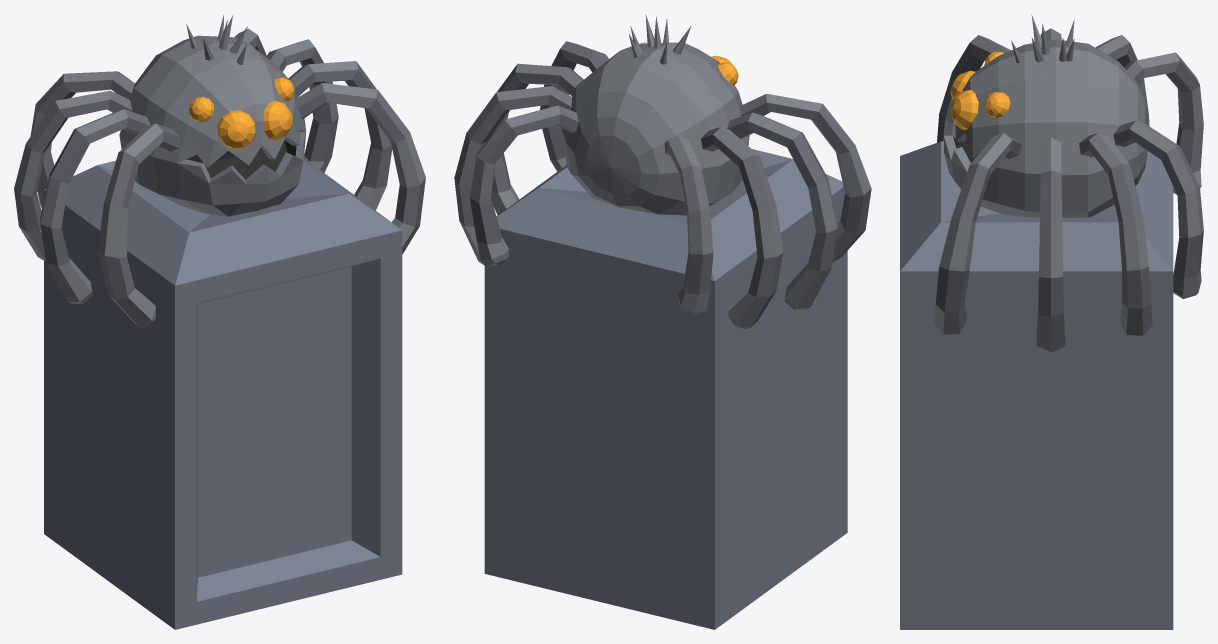
Rendered from spider Statue.FBX.
3 views of the same model, side by side, from view 1: azimuth 30°, elevation 25°; view 2: azimuth 150°, elevation 25°; view 3: azimuth 270°, elevation 25° (orthographic). The views are drawn at different scales.
Visible parts, largest first — view 1: spider Statue; view 2: spider Statue; view 3: spider Statue.
Boxes of the visible parts, left/top/right/bottom form: spider Statue: left=14, top=14, right=425, bottom=629; spider Statue: left=454, top=14, right=871, bottom=629; spider Statue: left=900, top=14, right=1203, bottom=629.
Bounding box in the file's own units: 309 × 446 × 222.
